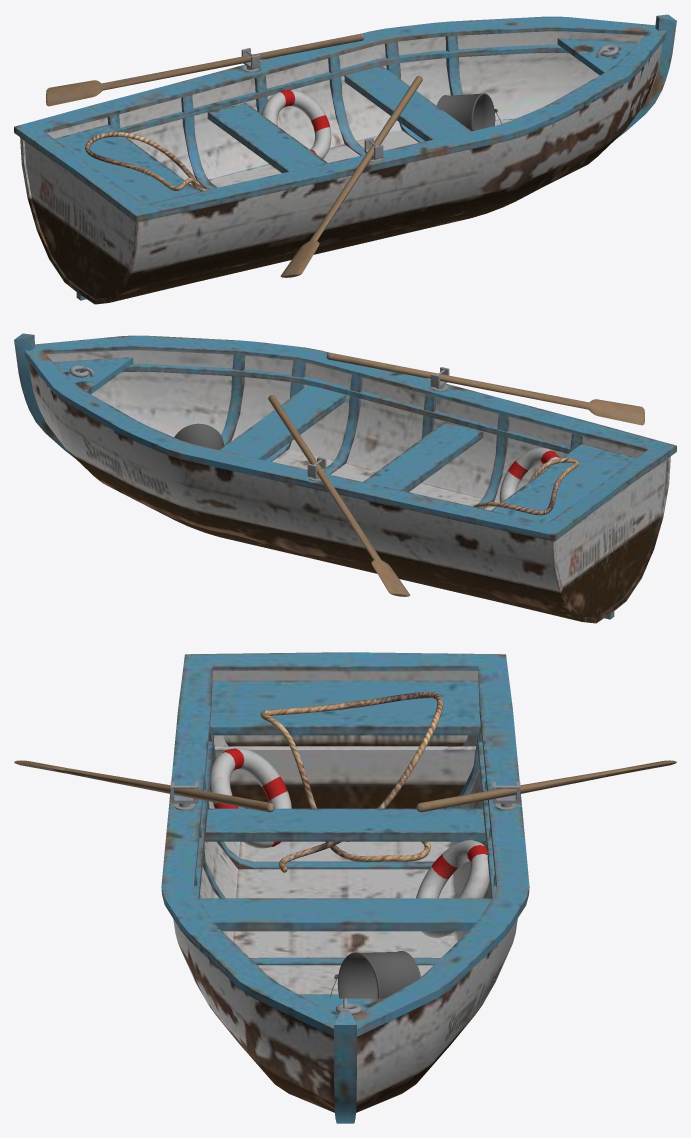
The model's file is sampan_blue.glb.
The picture shows the model from 3 angles, top to bottom: view 1: azimuth 30°, elevation 25°; view 2: azimuth 150°, elevation 25°; view 3: azimuth 270°, elevation 25°; orthographic projection. The views are drawn at different scales.
Visible parts, largest first — view 1: Boat_Outside_LP, Sit_Back_LP, Frame_Inside_LP, Sit_Front_LP, Sit_Middle_LP, Frame_Around_Inside_LP, Pedal_LP.001, Pedal_LP, Circle_LP.001, Floor_LP, Bucket_LP, Boat_Front_LP (+3 smaller); view 2: Boat_Outside_LP, Sit_Back_LP, Frame_Inside_LP, Sit_Front_LP, Frame_Around_Inside_LP, Sit_Middle_LP, Pedal_LP, Pedal_LP.001, Floor_LP, Boat_Front_LP, Frame_Outside_LP, Circle_LP (+3 smaller); view 3: Boat_Outside_LP, Floor_LP, Sit_Back_LP, LowerPart_Sit_Back_LP, Sit_Middle_LP, Sit_Front_LP, Frame_Inside_LP, Rope_LP, Bucket_LP, Circle_LP, Circle_LP.001, Frame_Outside_LP (+4 smaller).
Boxes of the visible parts, x1,y1,x2,y2 form: Boat_Outside_LP: (14,16,667,304); Sit_Back_LP: (54,124,199,204); Frame_Inside_LP: (107,35,462,188); Sit_Front_LP: (344,66,470,141); Sit_Middle_LP: (207,103,327,173); Frame_Around_Inside_LP: (118,44,568,132); Pedal_LP.001: (46,33,364,106); Pedal_LP: (280,76,422,277); Circle_LP.001: (261,90,331,158); Floor_LP: (191,118,515,188); Bucket_LP: (437,93,495,130); Boat_Front_LP: (557,38,636,74); Boat_Outside_LP: (24,335,676,623); Sit_Back_LP: (491,443,636,523); Frame_Inside_LP: (221,354,583,508); Sit_Front_LP: (220,385,346,460); Frame_Around_Inside_LP: (122,363,572,453); Sit_Middle_LP: (363,422,483,492); Pedal_LP: (326,352,644,425); Pedal_LP.001: (268,395,410,596); Floor_LP: (224,441,495,510); Boat_Front_LP: (54,357,133,394); Frame_Outside_LP: (14,333,614,619); Circle_LP: (499,447,559,502); Boat_Outside_LP: (161,652,529,1112); Floor_LP: (233,841,457,994); Sit_Back_LP: (210,680,480,735); LowerPart_Sit_Back_LP: (214,746,476,808); Sit_Middle_LP: (205,808,485,841); Sit_Front_LP: (199,898,491,931); Frame_Inside_LP: (195,726,495,998); Rope_LP: (260,692,443,872); Bucket_LP: (337,951,420,998); Circle_LP: (209,748,291,848); Circle_LP.001: (416,840,489,937); Frame_Outside_LP: (334,1010,356,1123).
Bounding box in the file's own units: 5.63 × 1.51 × 4.13.
3 materials, 3 textured.
